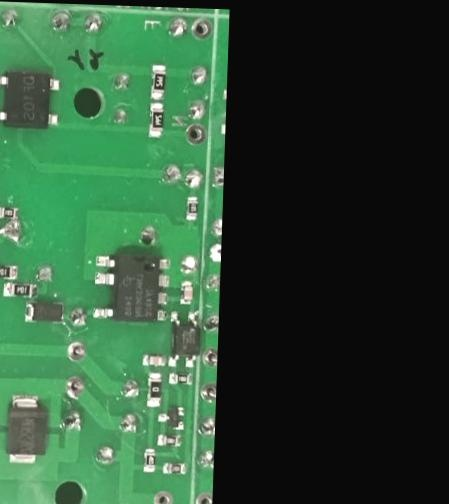chip-capacitor: (178, 278, 194, 305), (141, 352, 166, 366)
chip-resistor: (146, 101, 165, 138), (149, 61, 166, 100), (145, 369, 162, 407), (1, 281, 38, 298), (160, 459, 187, 475), (166, 370, 194, 385), (155, 432, 182, 447), (184, 195, 199, 221), (142, 446, 157, 472), (0, 261, 18, 279), (0, 205, 20, 220)
diode: (4, 391, 51, 466), (22, 297, 67, 323)
ic: (91, 250, 171, 323), (0, 68, 62, 129), (167, 308, 200, 368)
transistor: (156, 402, 187, 431)
